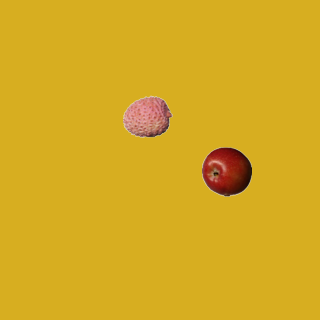Apple Braeburn: (201, 146, 251, 196)
Lychee: (122, 91, 172, 141)
